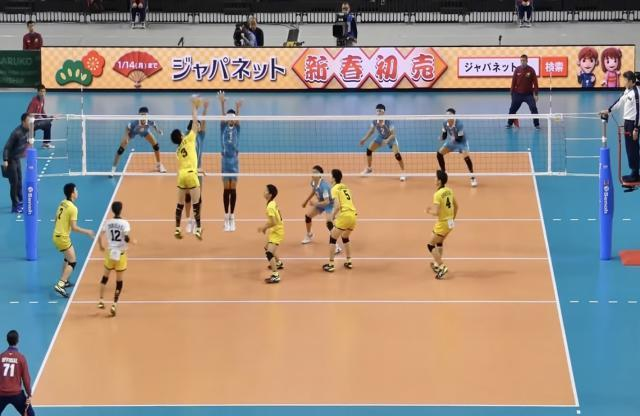spike: (168, 92, 208, 242)
